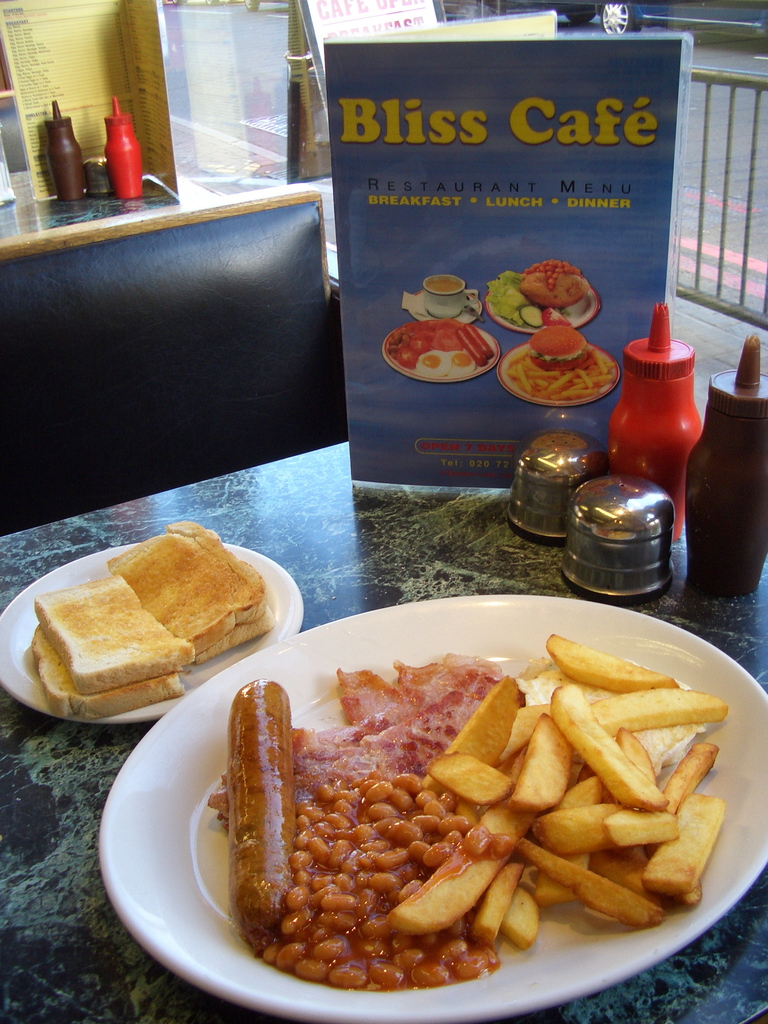French fries: (436, 624, 737, 939)
